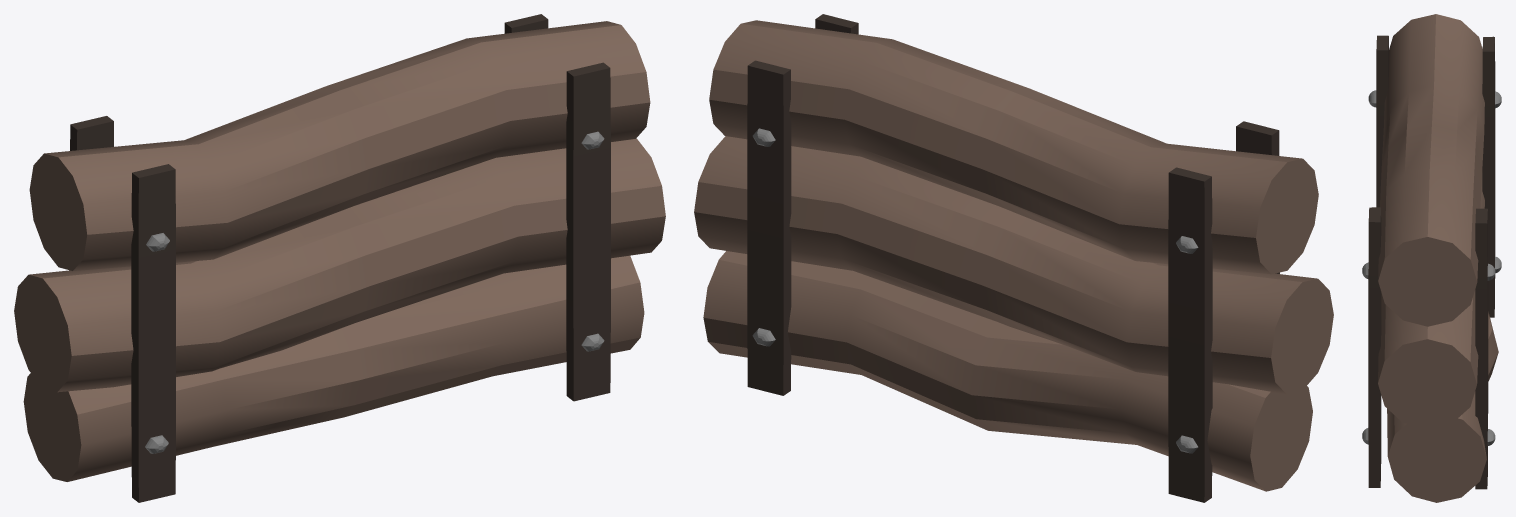
File: Wall.fbx
3 views of the same model, side by side, from view 1: azimuth 30°, elevation 25°; view 2: azimuth 150°, elevation 25°; view 3: azimuth 270°, elevation 25° (orthographic). The views are drawn at different scales.
Parts seen in each view (by area): view 1: pCylinder10; view 2: pCylinder10; view 3: pCylinder10.
Part boxes in pixels (box(x1,y1,x2,y2)): pCylinder10: box(14, 14, 665, 502); pCylinder10: box(694, 14, 1333, 502); pCylinder10: box(1362, 14, 1501, 502).
Bounding box in the file's own units: 145 × 81.07 × 36.21.
